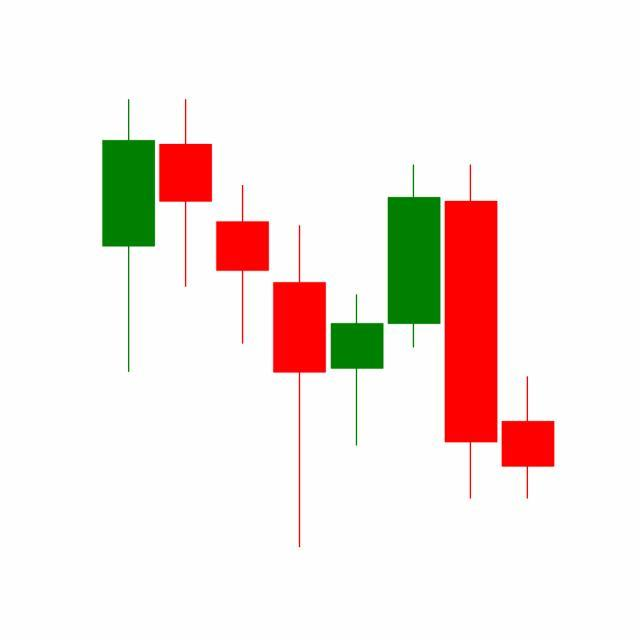Hikkake Pattern: (270, 160, 555, 548)
